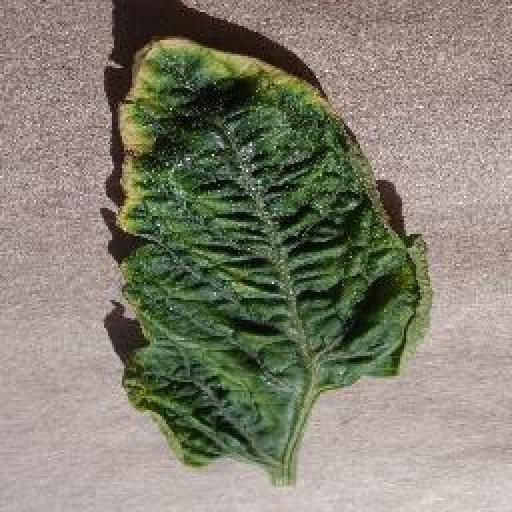disease_tomato: (115, 30, 431, 470)
